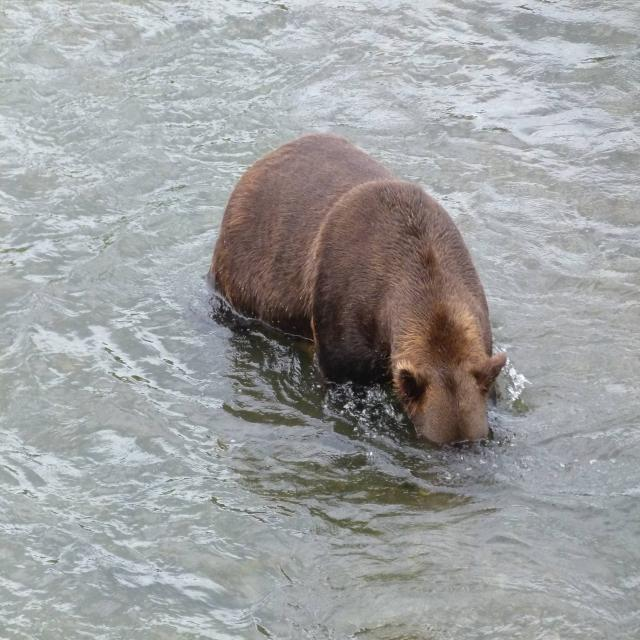bear face: (208, 136, 506, 443)
